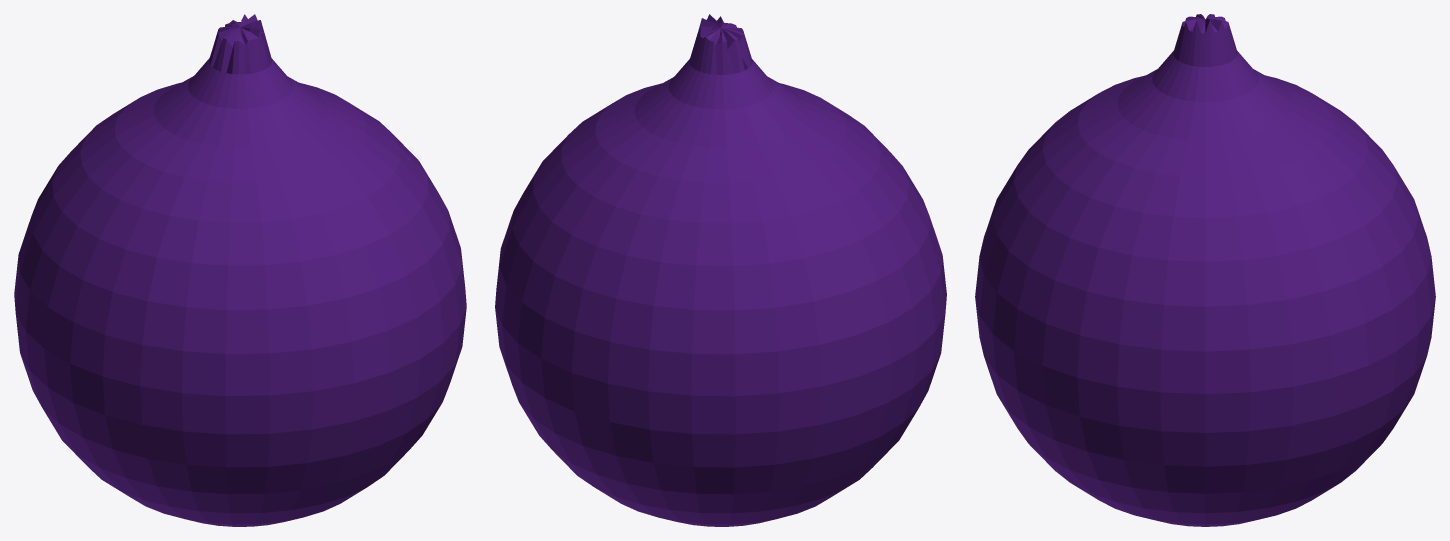
File: Onion.fbx
The picture shows the model from 3 angles, left to right: view 1: azimuth 30°, elevation 25°; view 2: azimuth 150°, elevation 25°; view 3: azimuth 270°, elevation 25°; orthographic projection.
Parts seen in each view (by area): view 1: Sphere; view 2: Sphere; view 3: Sphere.
Part boxes in pixels (left/top/right/bottom): Sphere: left=14, top=14, right=466, bottom=526; Sphere: left=495, top=14, right=946, bottom=526; Sphere: left=975, top=14, right=1435, bottom=526.
Size of the model in its own units: 60.83 by 74.07 by 60.83.
